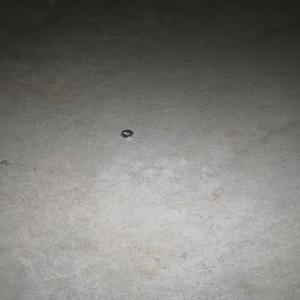Nut: (120, 130, 133, 138)
